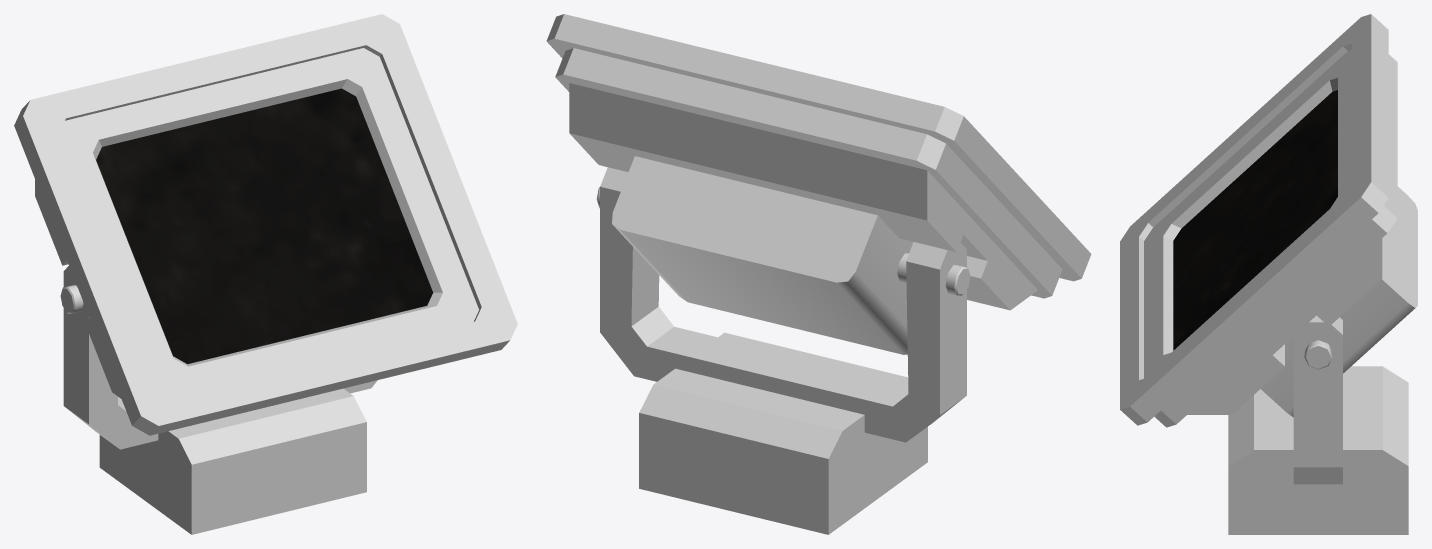
The model's file is KB3D_NSF_PropLamp_D.fbx.
The picture shows the model from 3 angles, left to right: view 1: azimuth 30°, elevation 25°; view 2: azimuth 150°, elevation 25°; view 3: azimuth 270°, elevation 25°; orthographic projection. The views are drawn at different scales.
Visible parts, largest first — view 1: KB3D_NSF_PropLamp_D_Main; view 2: KB3D_NSF_PropLamp_D_Main; view 3: KB3D_NSF_PropLamp_D_Main.
Part boxes in pixels (x1,y1,x2,y2): KB3D_NSF_PropLamp_D_Main: [14, 14, 517, 534]; KB3D_NSF_PropLamp_D_Main: [546, 14, 1091, 534]; KB3D_NSF_PropLamp_D_Main: [1120, 14, 1417, 534].
Bounding box in the file's own units: 30 × 30.68 × 20.97.
